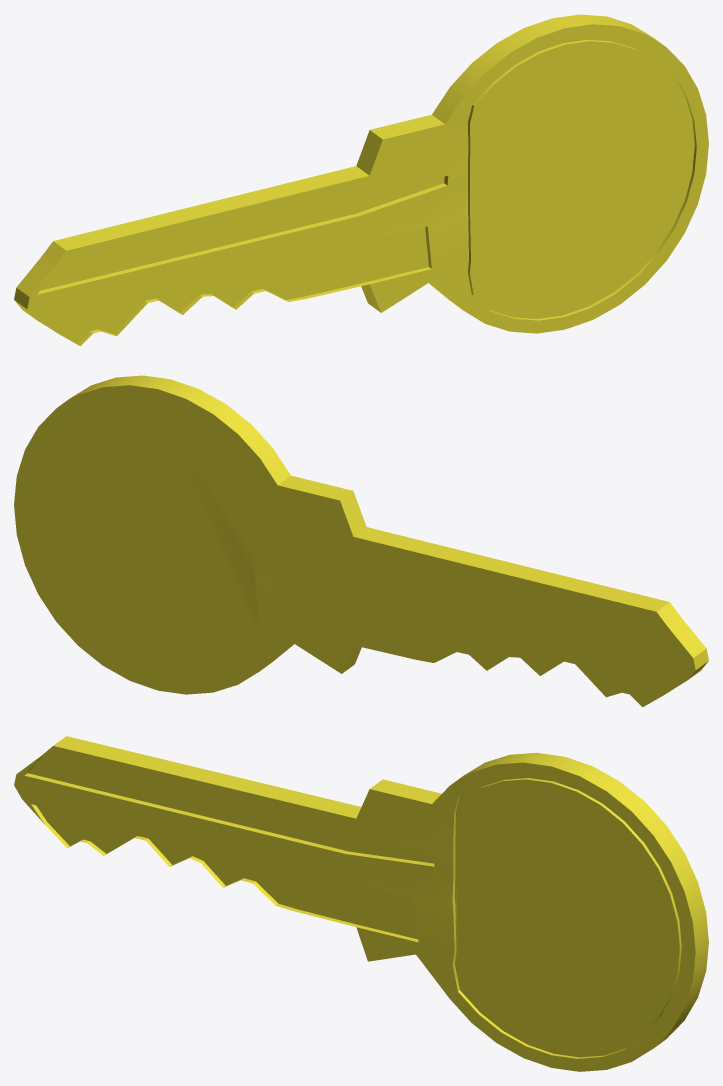
File: key.fbx
3 views of the same model, one above another, from view 1: azimuth 30°, elevation 25°; view 2: azimuth 150°, elevation 25°; view 3: azimuth 330°, elevation 25° (orthographic).
Parts seen in each view (by area): view 1: 柱体; view 2: 柱体; view 3: 柱体.
Boxes of the visible parts, x1,y1,x2,y2 form: 柱体: (14, 14, 708, 346); 柱体: (14, 375, 708, 707); 柱体: (14, 736, 708, 1071).
Bounding box in the file's own units: 439 × 186 × 14.99.
